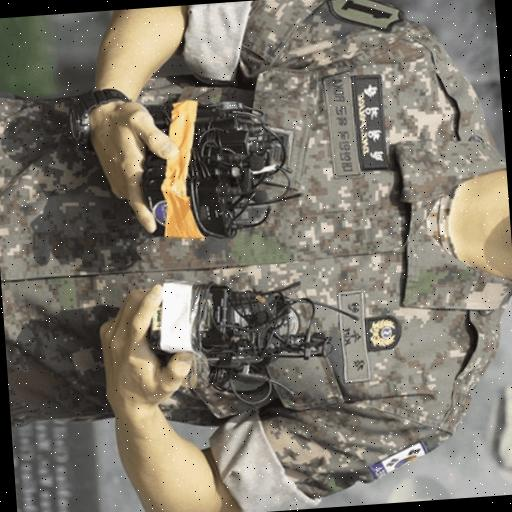korea army: (0, 0, 512, 486)
